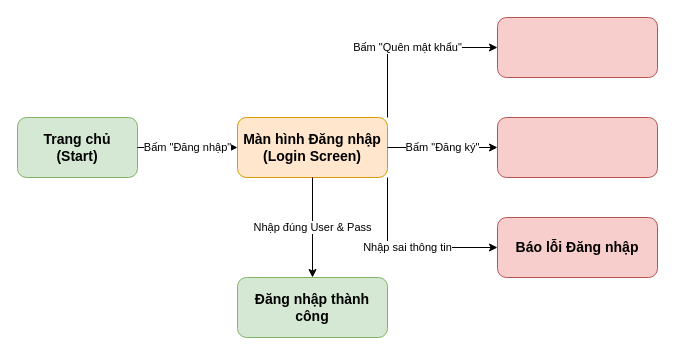
This 675x355 diagram has some shape labels left out. Each missing label, with the box of its shape:
Màn hình Quên MK: (496, 16, 658, 78)
Màn hình Đăng ký: (496, 116, 658, 178)
